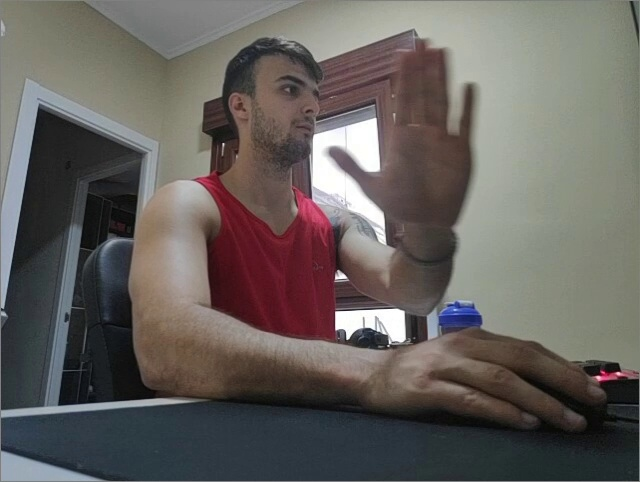Palm: (325, 34, 481, 229)
